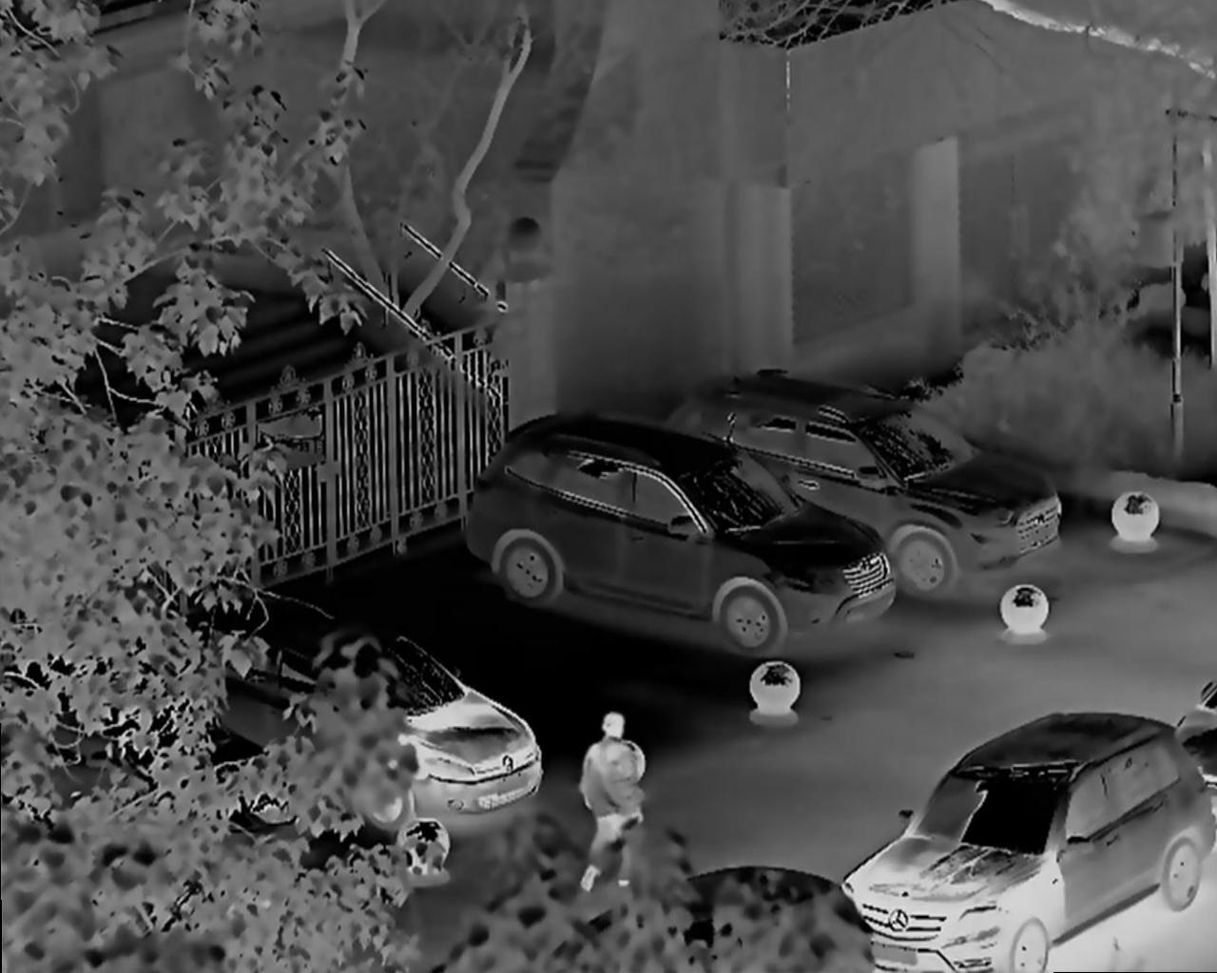person: (573, 710, 647, 893)
